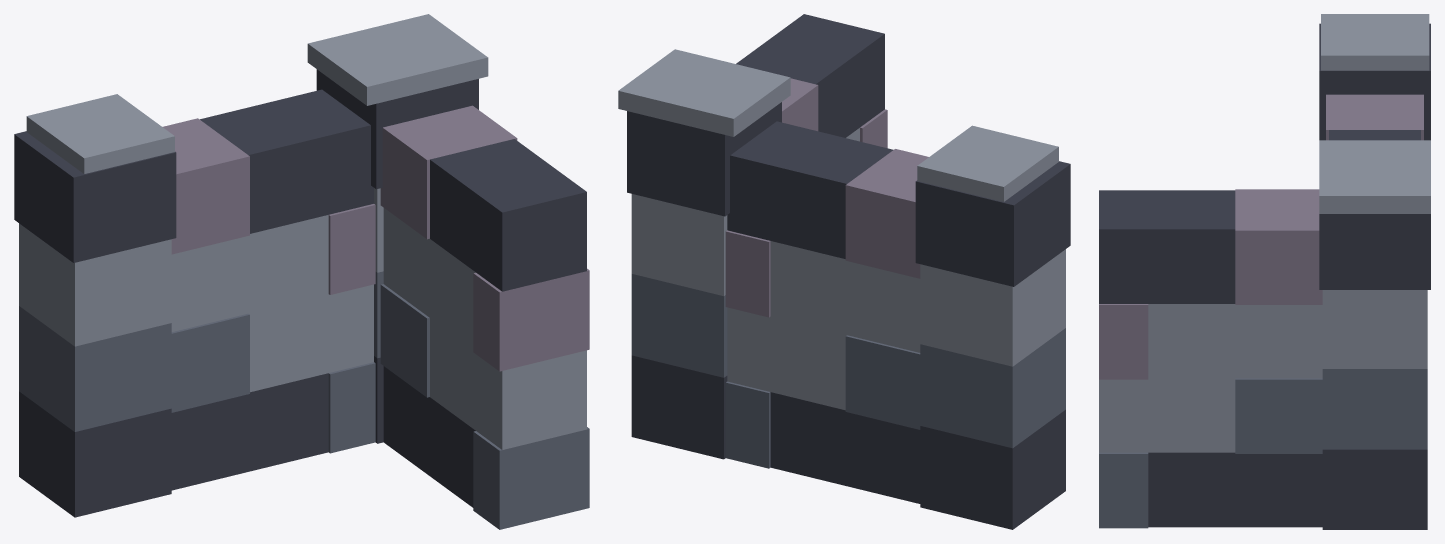
File: TW_STONE_CORNER_R90_B_LOD0.glb
The picture shows the model from 3 angles, left to right: view 1: azimuth 30°, elevation 25°; view 2: azimuth 150°, elevation 25°; view 3: azimuth 270°, elevation 25°; orthographic projection. The views are drawn at different scales.
Visible parts, largest first — view 1: TW_STONE_CORNER_R90_B_LOD0; view 2: TW_STONE_CORNER_R90_B_LOD0; view 3: TW_STONE_CORNER_R90_B_LOD0.
Part boxes in pixels (bbox=[...]): TW_STONE_CORNER_R90_B_LOD0: bbox=[14, 14, 589, 529]; TW_STONE_CORNER_R90_B_LOD0: bbox=[618, 14, 1070, 529]; TW_STONE_CORNER_R90_B_LOD0: bbox=[1099, 14, 1430, 529].
Size of the model in its own units: 1.37 by 1.14 by 1.01.
Materials: 1 (1 with a texture image).
